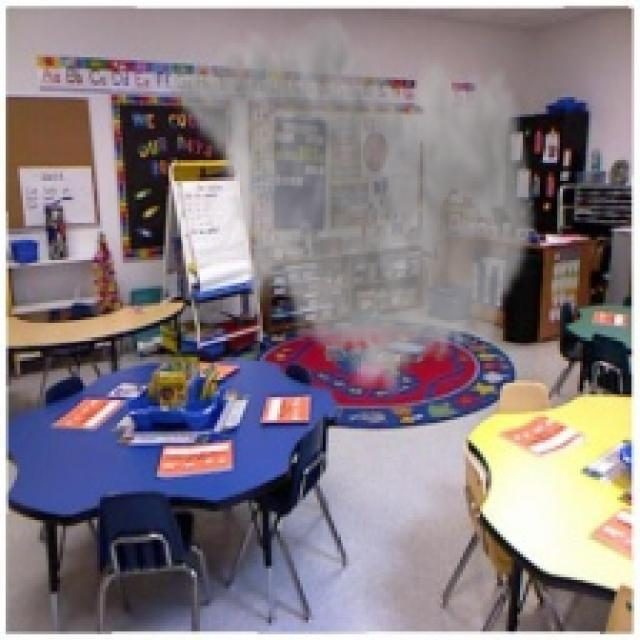Smoke: (163, 3, 540, 406)
